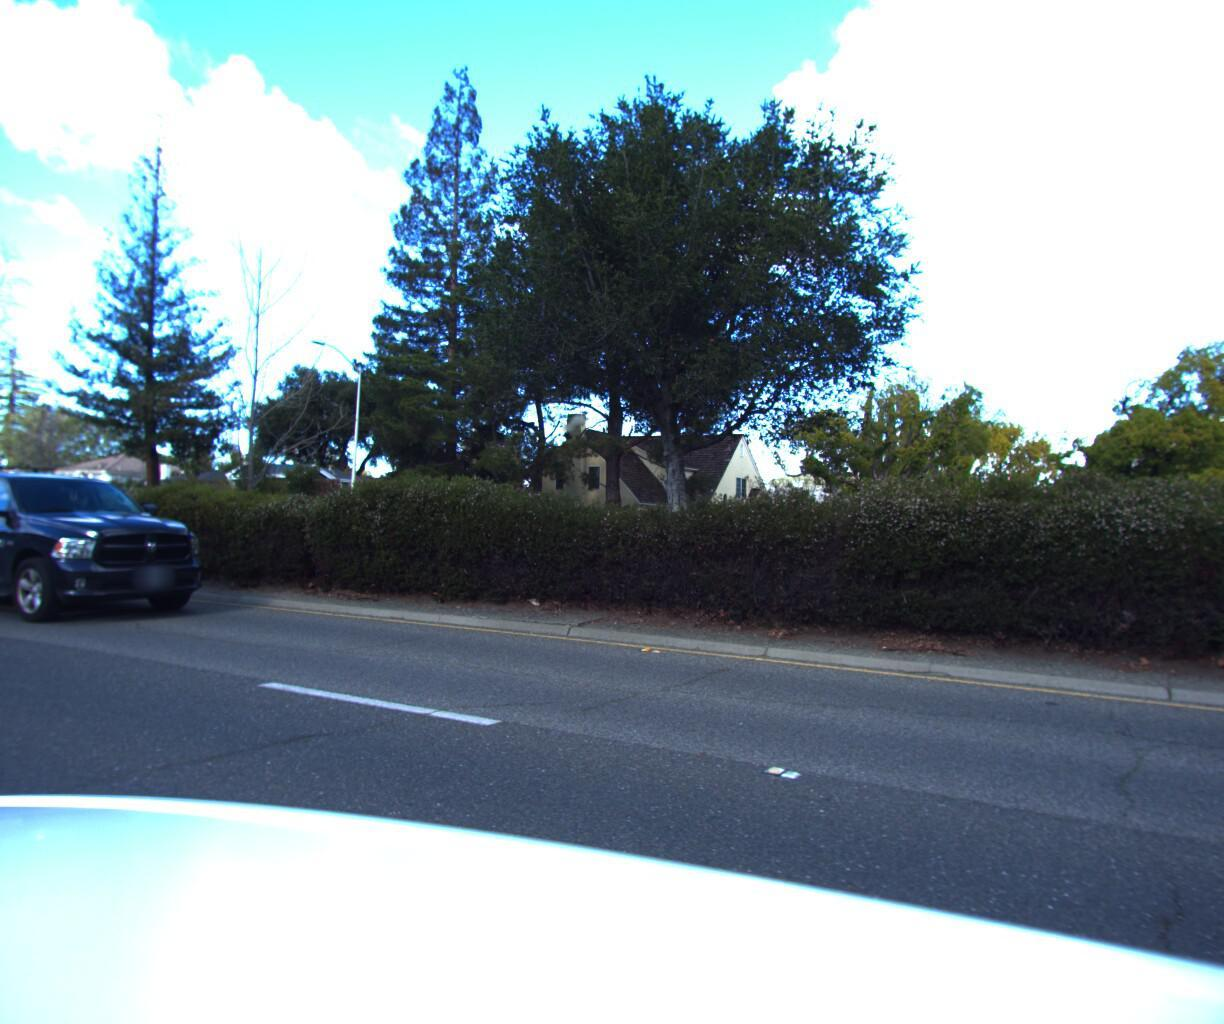car: (0, 458, 217, 637)
